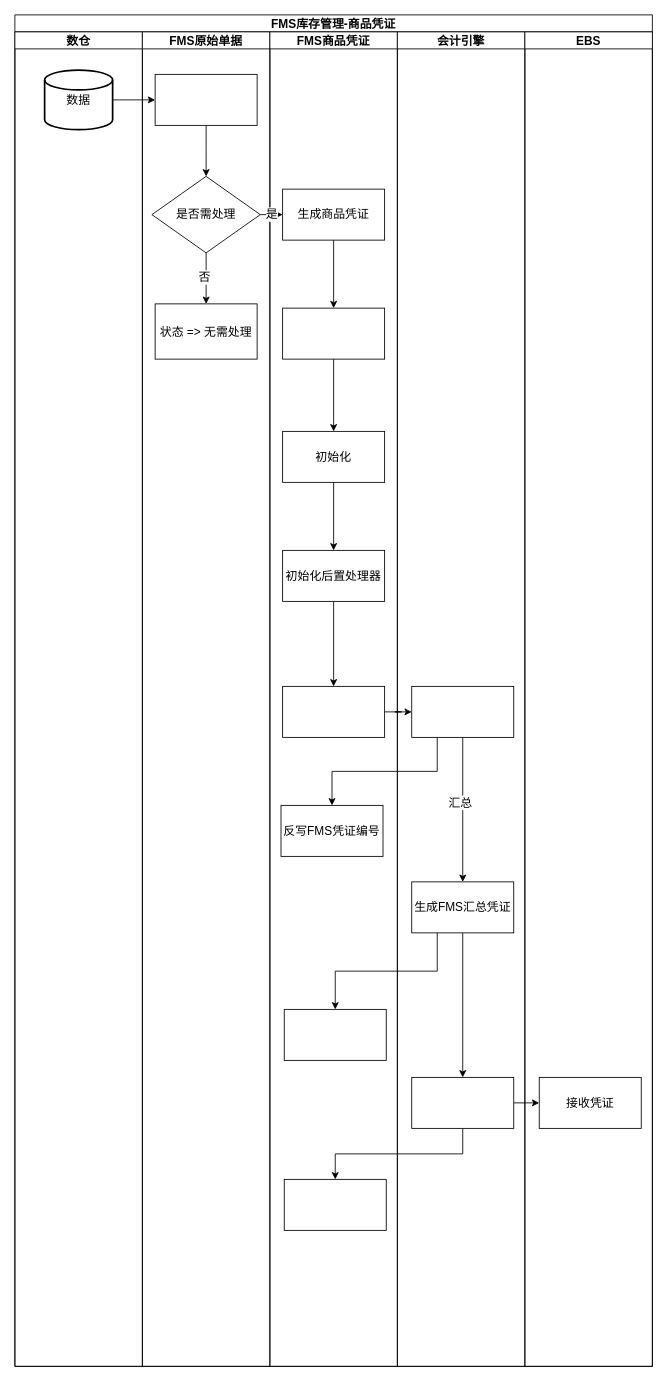
Image size: 667x1381. Some labels were removed from this diagram. Here are the shapes that lost their labels. From the top down, the box of each, then its label:
(154, 74, 257, 125): 接收数据 状态=>待初始化
(282, 307, 385, 359): 初始化前置处理器
(282, 686, 385, 737): 推送会计引擎
(411, 686, 514, 737): 生成FMS凭证
(283, 1009, 386, 1060): 反写FMS汇总凭证编号
(411, 1077, 514, 1128): 推送EBS
(283, 1179, 386, 1230): 反写EBS凭证编号
